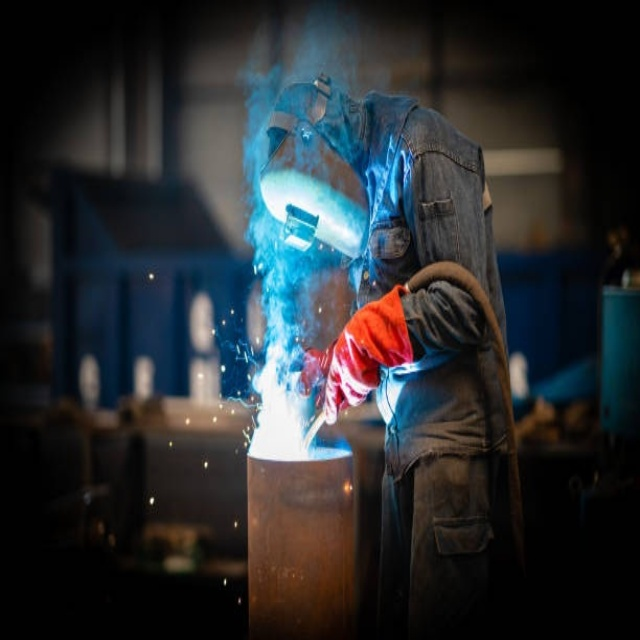Guantes: (322, 285, 415, 421), (295, 347, 332, 404)
